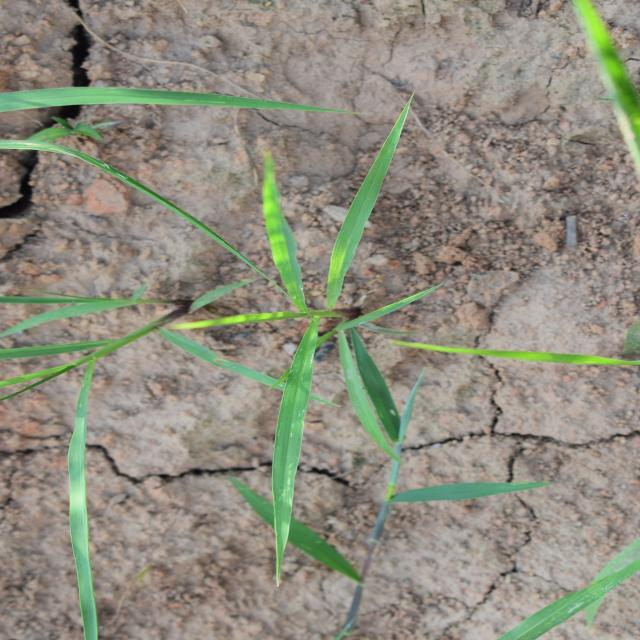green_foxtail: (102, 145, 478, 450)
